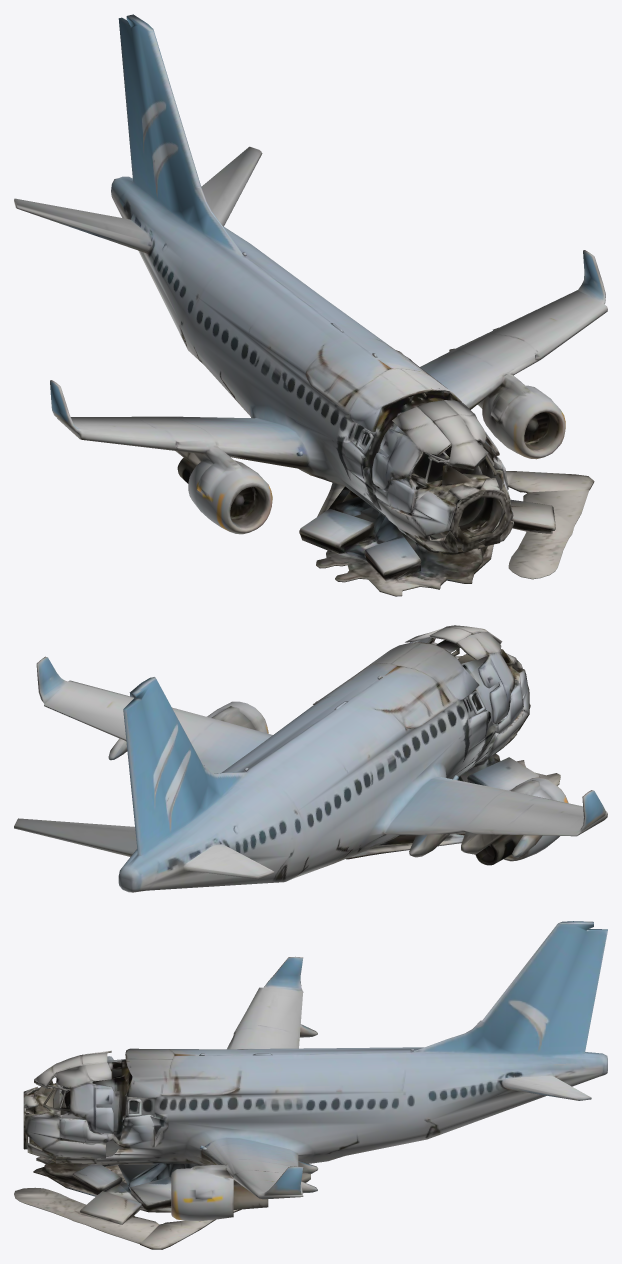
Rendered from crashed_airplane_832d0cc2_v3.glb.
3 renders of one model, top to bottom at view 1: azimuth 30°, elevation 25°; view 2: azimuth 150°, elevation 25°; view 3: azimuth 270°, elevation 25°, orthographic. The views are drawn at different scales.
Parts seen in each view (by area): view 1: material; view 2: material; view 3: material.
Part boxes in pixels (<box>): material: <box>14,14,607,596</box>; material: <box>14,625,607,892</box>; material: <box>14,921,607,1249</box>.
Bounding box in the file's own units: 1.6 × 0.9008 × 1.9.
1 material, 1 textured.
